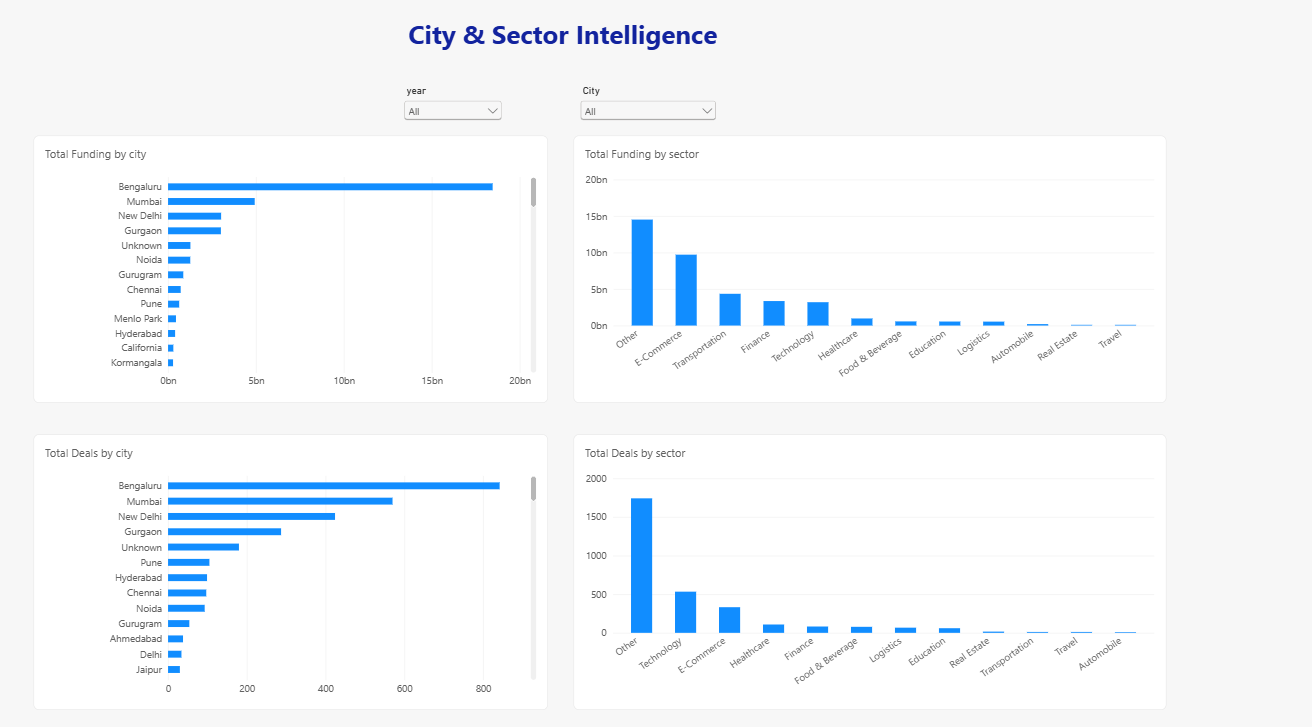

What the dashboard file says about the page in this screenshot:
{"tool":"powerbi","page":{"name":"City & Sector Intelligence","canvas":[1920,1080],"ordinal":1},"visuals":[{"type":"clusteredBarChart","fields":{"Category":["startup_clean.city_clean"],"Y":["startup_clean.Total Funding"]},"box":[67.9,214.1,745.1,387],"z":0},{"type":"clusteredColumnChart","fields":{"Category":["startup_clean.sector_category"],"Y":["startup_clean.Total Funding"]},"box":[850.1,214.1,858.3,387],"z":1000},{"type":"clusteredBarChart","fields":{"Category":["startup_clean.city_clean"],"Y":["startup_clean.Total Deals"]},"box":[67.9,646.3,745.1,399.3],"z":2000},{"type":"clusteredColumnChart","fields":{"Category":["startup_clean.sector_category"],"Y":["startup_clean.Total Deals"]},"box":[850.1,646.3,858.3,399.3],"z":3000},{"type":"slicer","fields":{"Values":["startup_clean.year"]},"box":[601,140,150.3,55.6],"z":3001},{"type":"textbox","box":[1136.2,119.4,12.3,150.3],"z":3002},{"type":"textbox","box":[374.6,41.2,950.9,78.2],"z":3003},{"type":"slicer","fields":{"Values":["startup_clean.city_clean"]},"box":[856.3,140,205.8,74.1],"z":3004}]}

Visuals, with their boxes in screenshot pixels (x1, y1, x2, y2), scaled from the page's 1920x1080 canvas onto the 1312x727 screenshot:
clusteredBarChart - startup_clean.city_clean x startup_clean.Total Funding: 46:144:556:405
clusteredColumnChart - startup_clean.sector_category x startup_clean.Total Funding: 581:144:1167:405
clusteredBarChart - startup_clean.city_clean x startup_clean.Total Deals: 46:435:556:704
clusteredColumnChart - startup_clean.sector_category x startup_clean.Total Deals: 581:435:1167:704
slicer - startup_clean.year: 411:94:513:132
textbox: 776:80:785:182
textbox: 256:28:906:80
slicer - startup_clean.city_clean: 585:94:726:144
